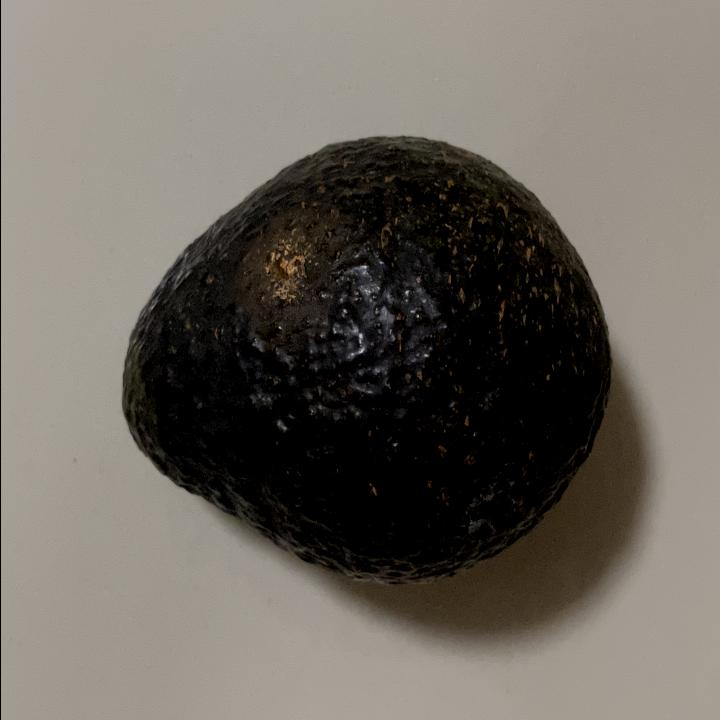Level2: (114, 126, 618, 592)
